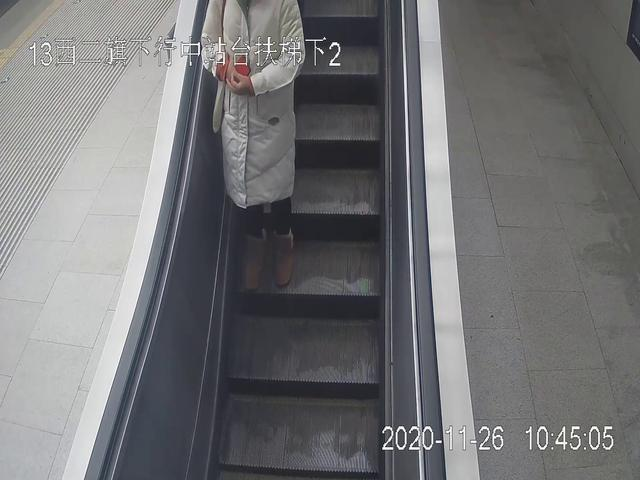person: (199, 1, 304, 292)
